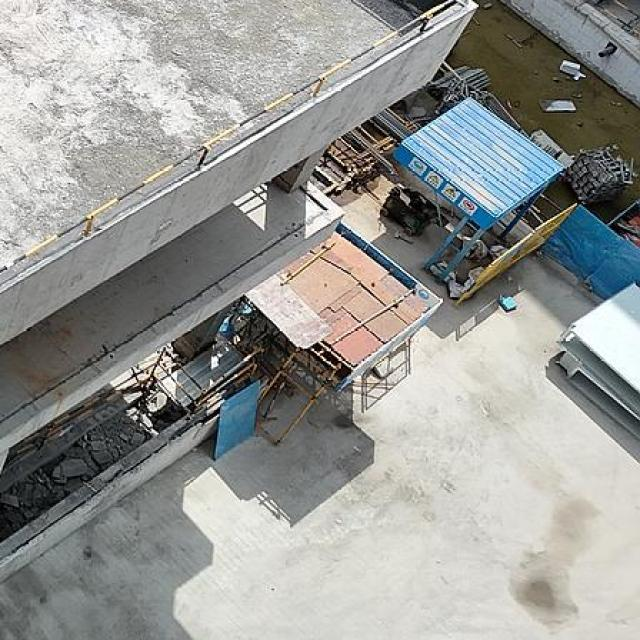edge_guardrail: (0, 0, 460, 276), (7, 346, 209, 461), (588, 0, 640, 35)
